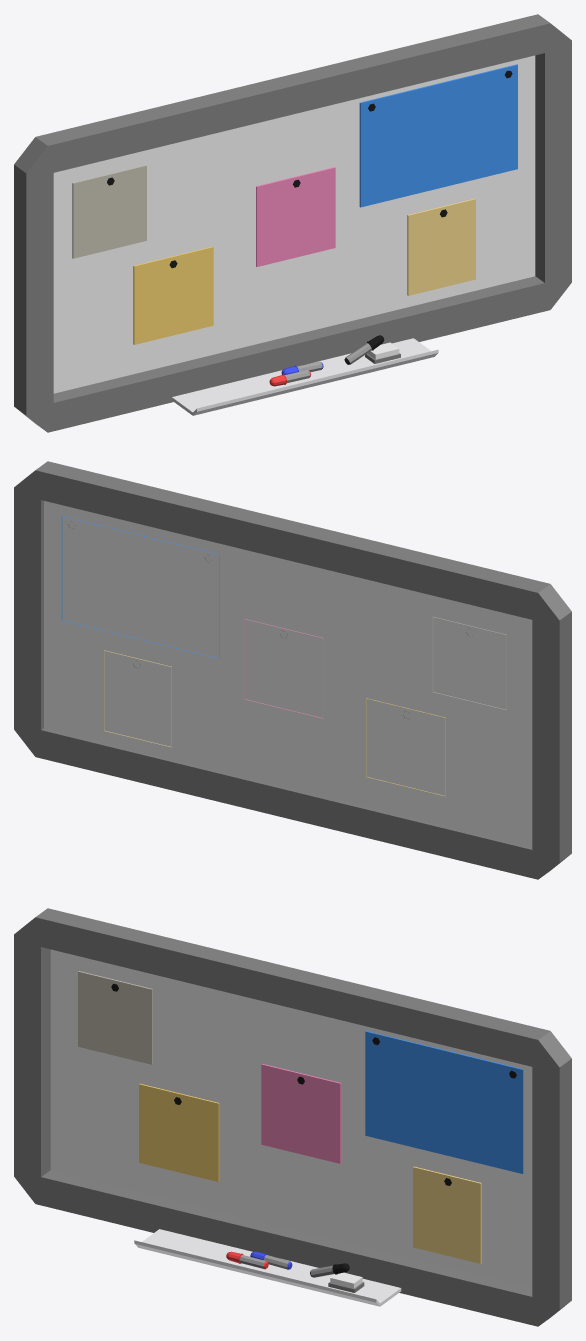
File: Whiteboard.fbx
3 views of the same model, one above another, from view 1: azimuth 30°, elevation 25°; view 2: azimuth 150°, elevation 25°; view 3: azimuth 330°, elevation 25° (orthographic).
Parts seen in each view (by area): view 1: Whiteboard; view 2: Whiteboard; view 3: Whiteboard.
Boxes of the visible parts, x1,y1,x2,y2 form: Whiteboard: [14, 14, 571, 432]; Whiteboard: [14, 461, 571, 879]; Whiteboard: [14, 908, 571, 1326].
Bounding box in the file's own units: 5.73 × 2.88 × 0.6806.
Materials: 1 (1 with a texture image).
